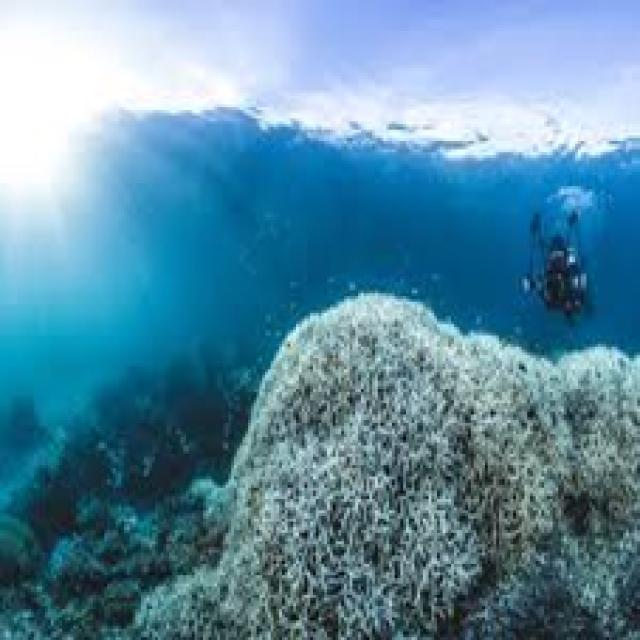Bleached: (227, 294, 497, 537), (136, 489, 477, 638), (458, 359, 571, 554), (562, 348, 638, 528)
